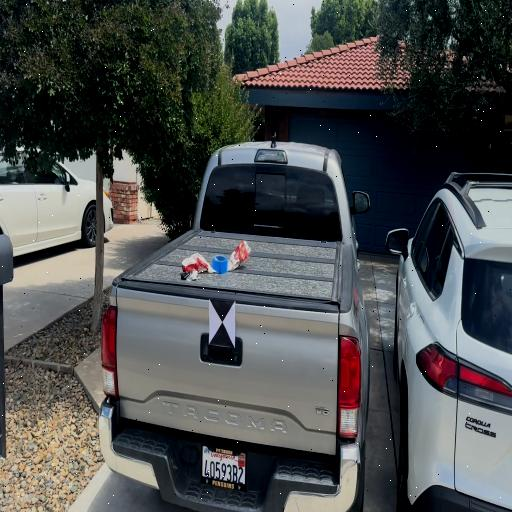target: (209, 298, 235, 347)
